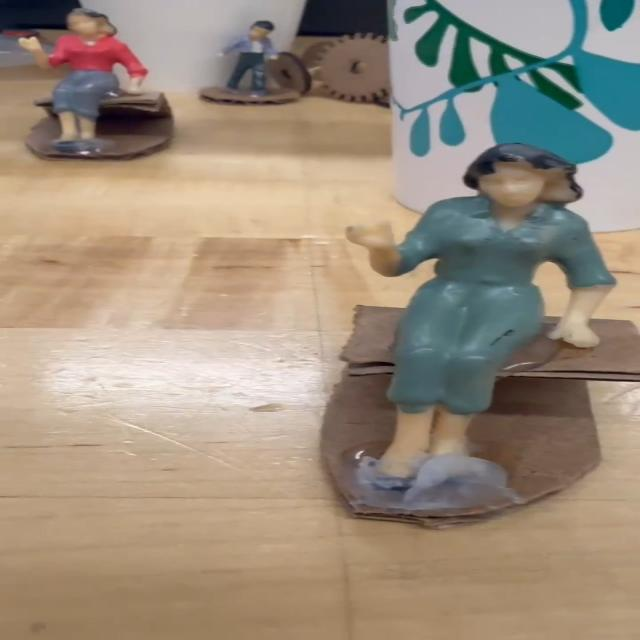Authorized: (242, 146, 640, 512)
